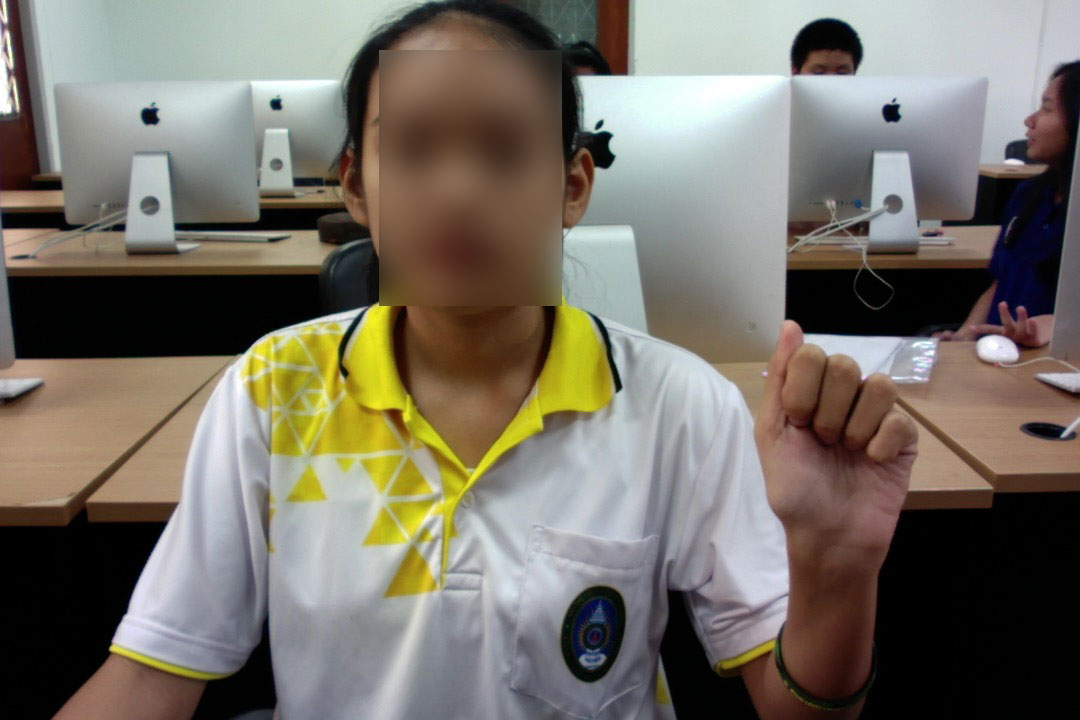or: (746, 311, 928, 579)
